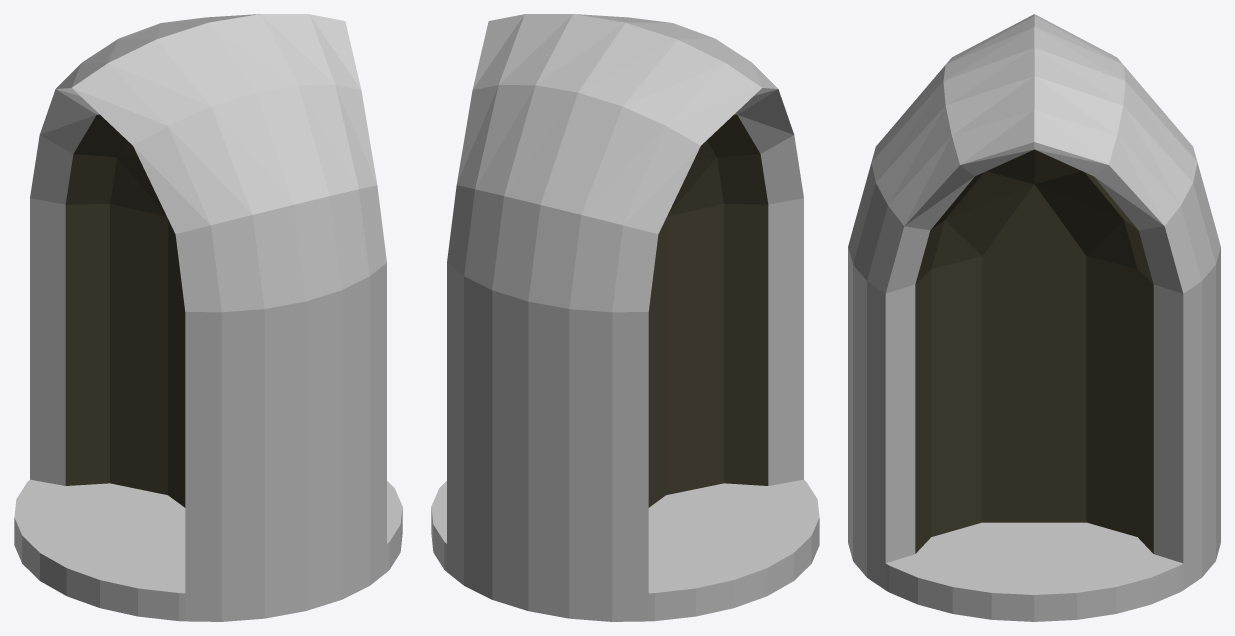
The model's file is EVT_CORNERROOMS_WHEELWALL_01.OBJ.
3 renders of one model, left to right at view 1: azimuth 30°, elevation 25°; view 2: azimuth 150°, elevation 25°; view 3: azimuth 270°, elevation 25°, orthographic. The views are drawn at different scales.
Visible parts, largest first — view 1: EVT_CORNERROOMS_WHEELWALL_01; view 2: EVT_CORNERROOMS_WHEELWALL_01; view 3: EVT_CORNERROOMS_WHEELWALL_01.
Boxes of the visible parts, x1,y1,x2,y2 form: EVT_CORNERROOMS_WHEELWALL_01: (14,14,402,621); EVT_CORNERROOMS_WHEELWALL_01: (431,14,819,621); EVT_CORNERROOMS_WHEELWALL_01: (848,14,1220,621).
Bounding box in the file's own units: 2.51 × 3.68 × 2.51.
